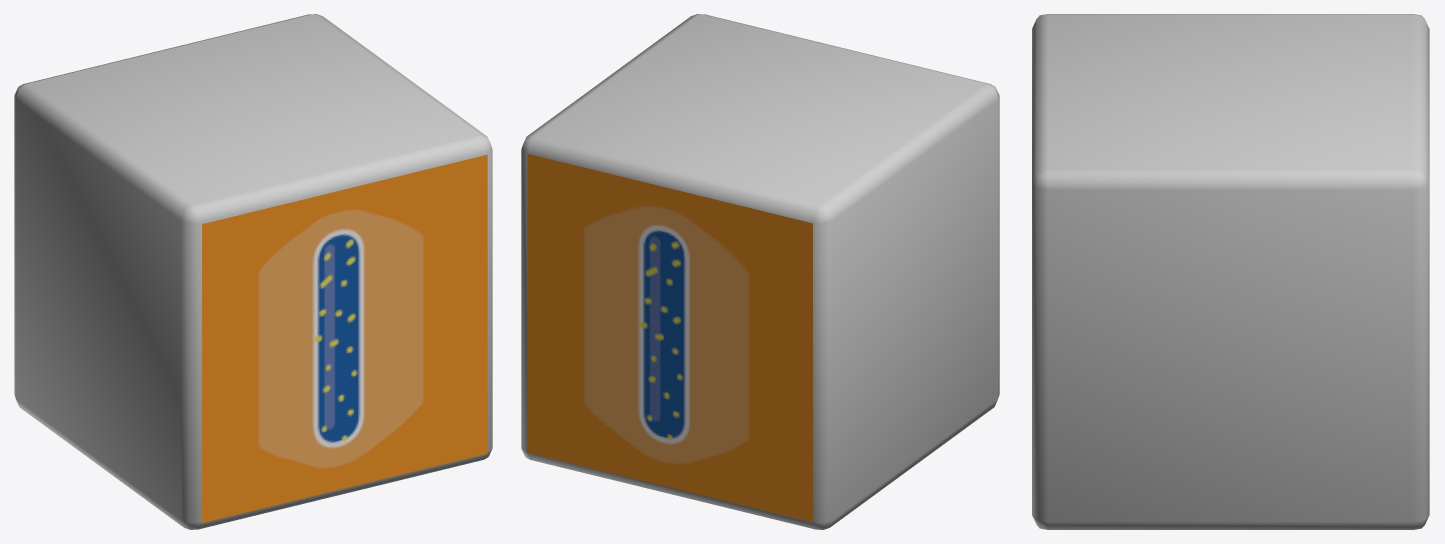
The model's file is Child_Cube_I.FBX.
3 renders of one model, left to right at view 1: azimuth 30°, elevation 25°; view 2: azimuth 150°, elevation 25°; view 3: azimuth 270°, elevation 25°, orthographic. The views are drawn at different scales.
Visible parts, largest first — view 1: Child_Cube_I; view 2: Child_Cube_I; view 3: Child_Cube_I.
Boxes of the visible parts, left/top/right/bottom form: Child_Cube_I: left=14, top=14, right=492, bottom=529; Child_Cube_I: left=521, top=14, right=999, bottom=529; Child_Cube_I: left=1032, top=14, right=1429, bottom=529.
Size of the model in its own units: 0.2122 by 0.2122 by 0.2149.
